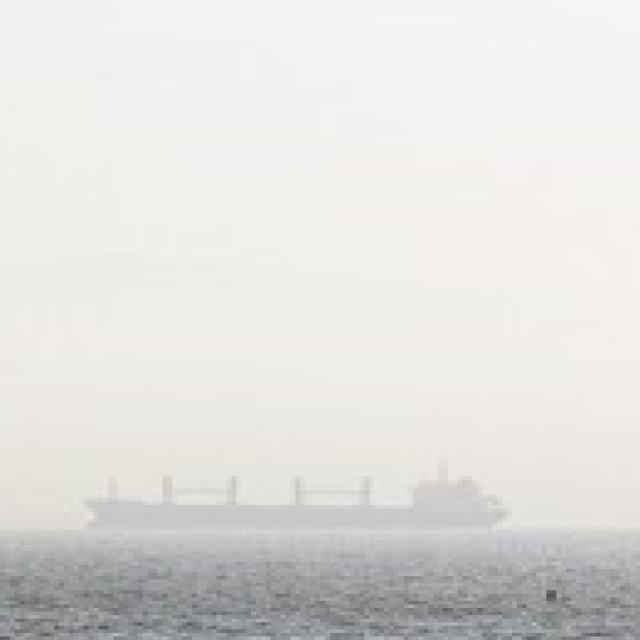cargoship: (83, 455, 517, 533)
